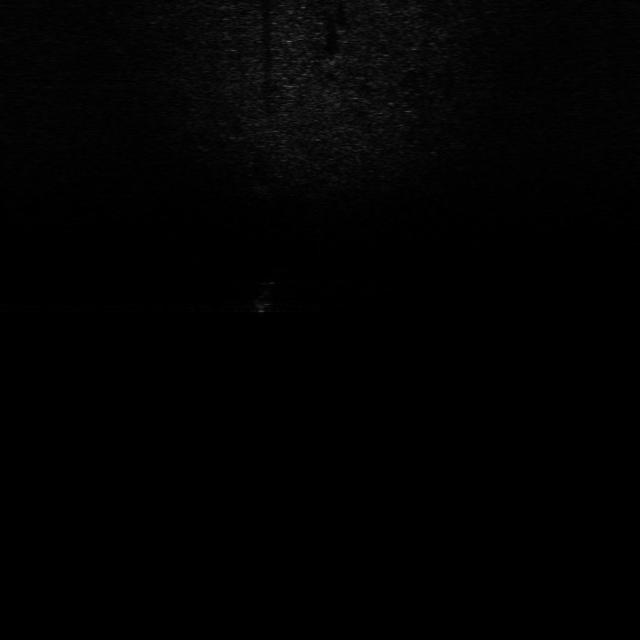human body: (246, 276, 284, 320)
